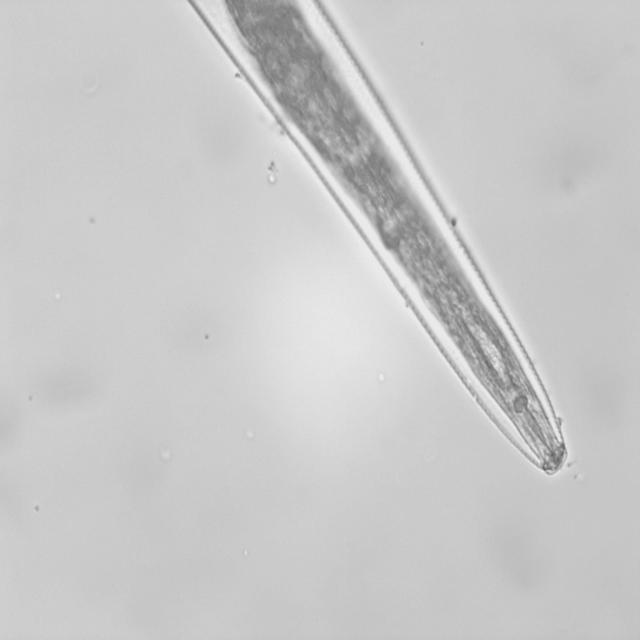Pratylenchus: (189, 0, 577, 492)
